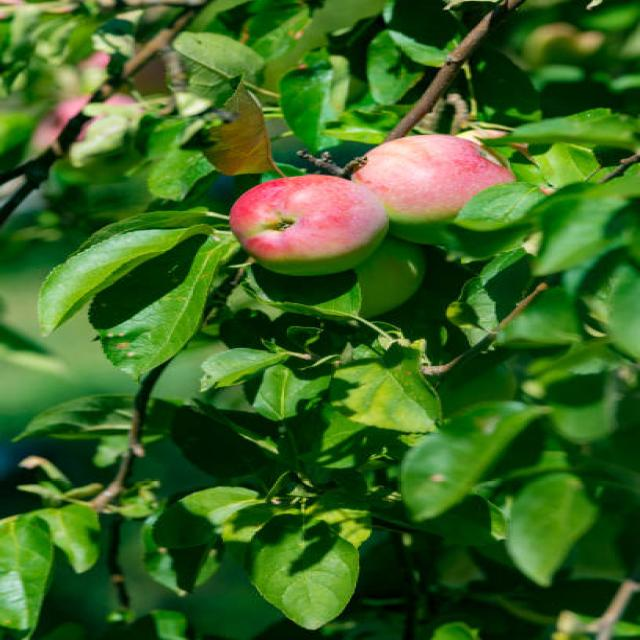Unripe: (230, 174, 390, 279)
